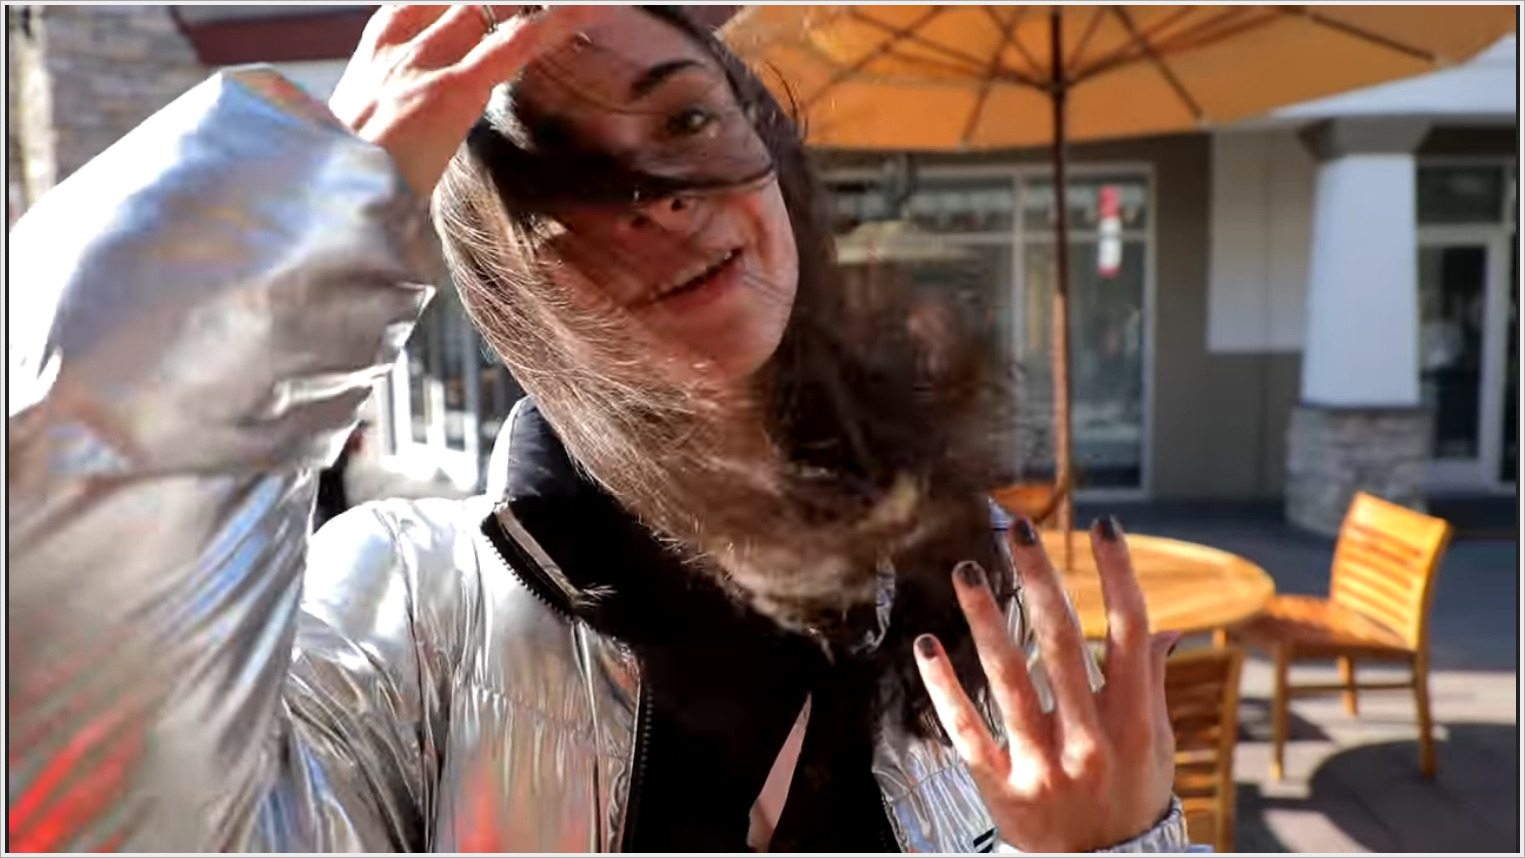hand: (911, 503, 1191, 844), (330, 6, 622, 205)
